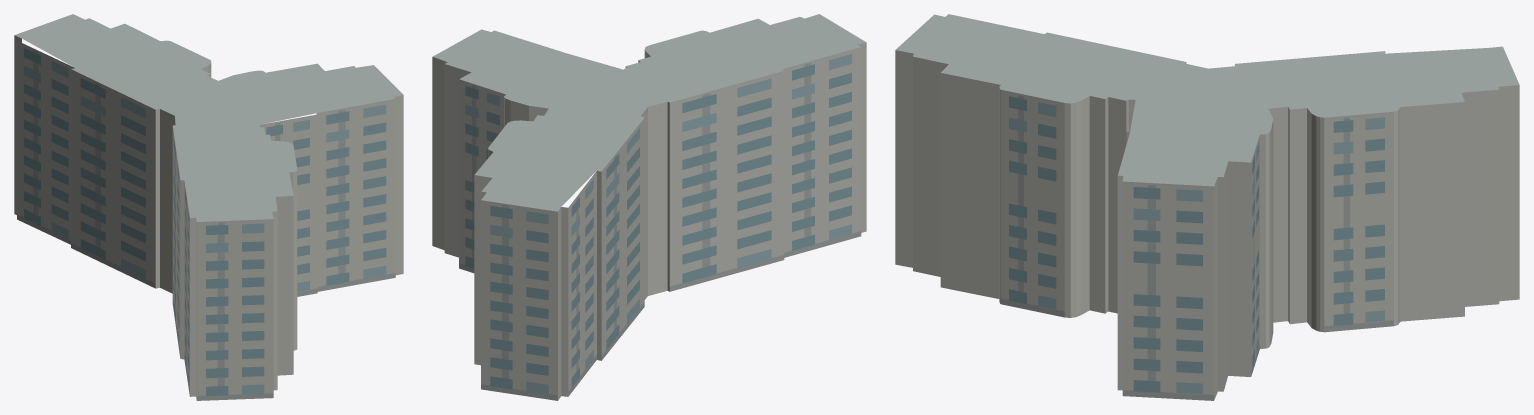
Rendered from survey-upis-32529698.glb.
The picture shows the model from 3 angles, left to right: view 1: azimuth 30°, elevation 25°; view 2: azimuth 150°, elevation 25°; view 3: azimuth 270°, elevation 25°; orthographic projection. The views are drawn at different scales.
Visible parts, largest first — view 1: survey-upis-32529698.tmp; view 2: survey-upis-32529698.tmp; view 3: survey-upis-32529698.tmp.
Part boxes in pixels (left/top/right/bottom): survey-upis-32529698.tmp: left=14, top=14, right=403, bottom=400; survey-upis-32529698.tmp: left=432, top=14, right=866, bottom=400; survey-upis-32529698.tmp: left=895, top=14, right=1519, bottom=400.
Size of the model in its own units: 46.2 by 26.8 by 70.71.
